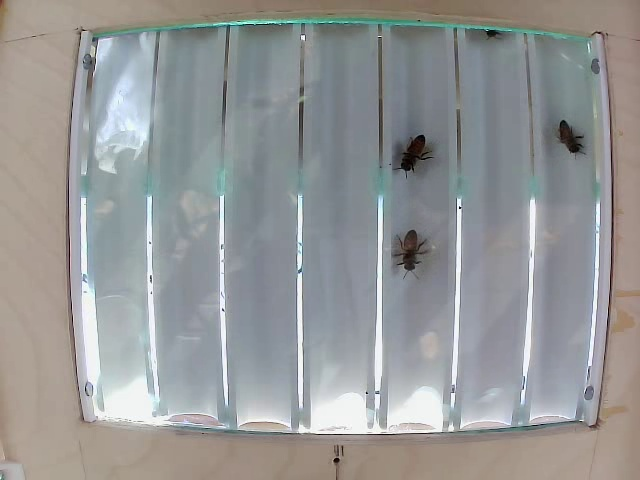bee: (393, 229, 425, 277), (557, 115, 588, 162), (399, 129, 427, 178)
